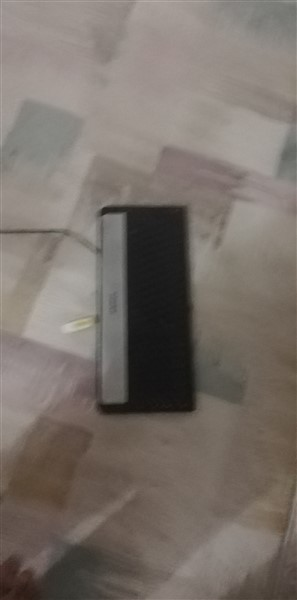flash disk: (62, 315, 102, 340)
klavye: (96, 201, 204, 416)
